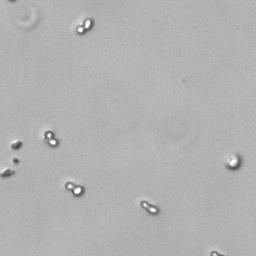budding: (74, 16, 93, 35), (63, 181, 83, 196), (140, 200, 160, 215), (43, 130, 59, 147)
individual: (225, 155, 240, 170)
